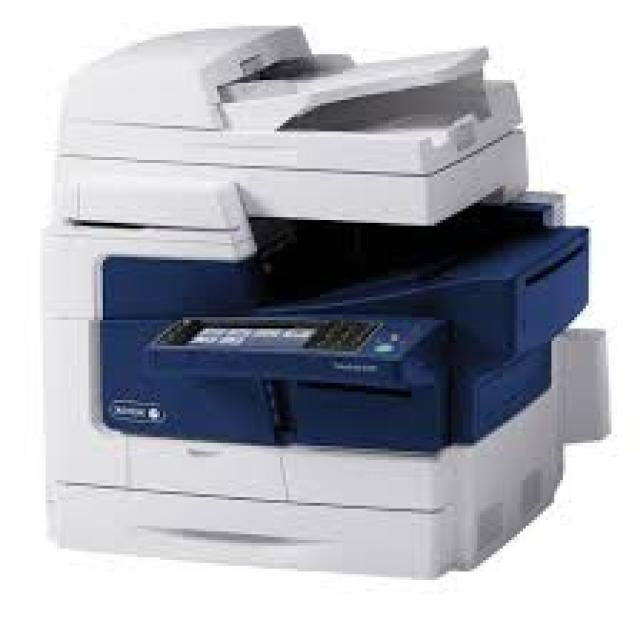printer: (12, 7, 626, 618)
